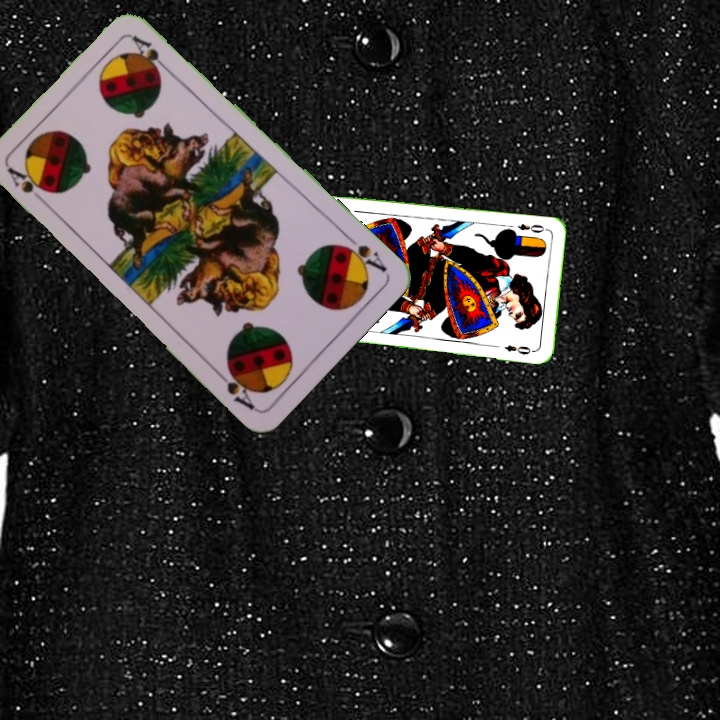EO: (514, 220, 550, 236)
SA: (335, 230, 390, 275), (3, 163, 52, 207)
